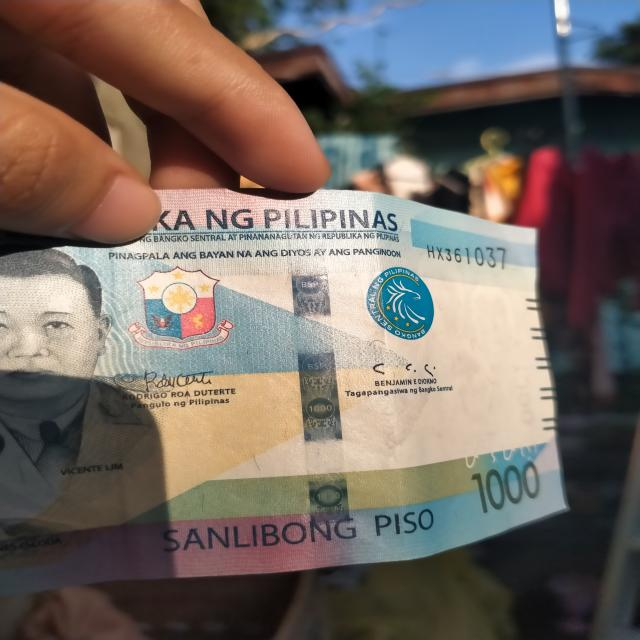security_thread: (283, 192, 357, 568)
see_through_mark: (455, 441, 540, 468)
serial_number: (420, 237, 509, 271)
